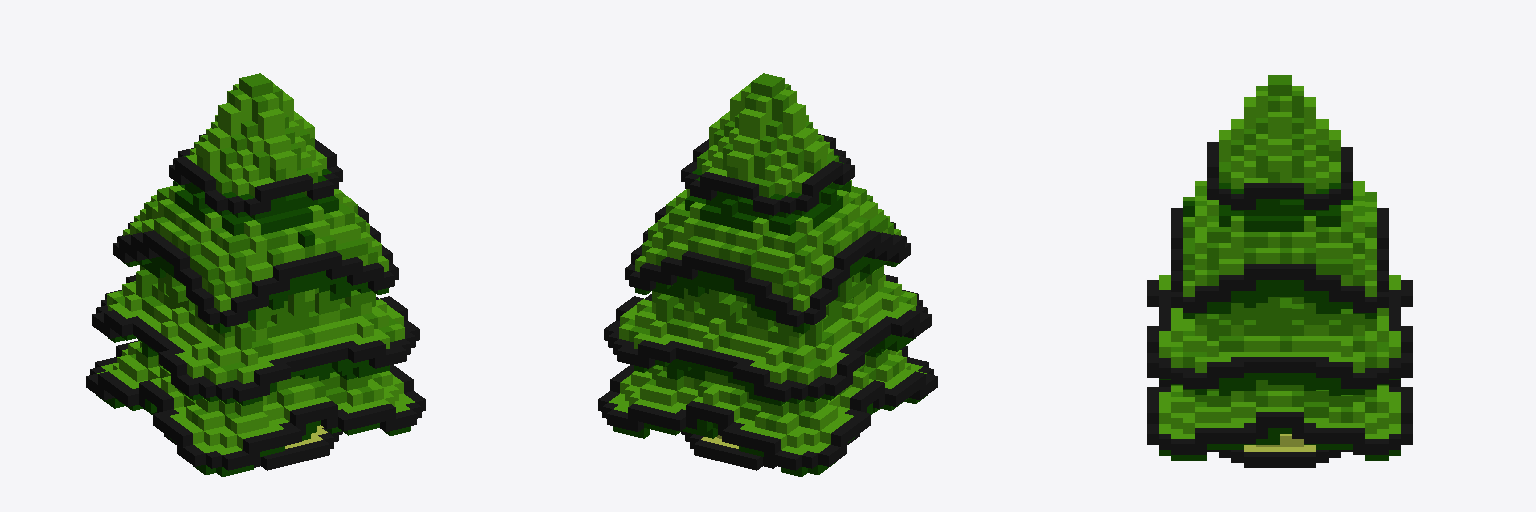
3 renders of one model, left to right at view 1: azimuth 30°, elevation 25°; view 2: azimuth 150°, elevation 25°; view 3: azimuth 270°, elevation 25°, orthographic.
Parts seen in each view (by area): view 1: Model; view 2: Model; view 3: Model.
Part boxes in pixels (x1,y1,x2,y2): Model: (86, 73, 425, 476); Model: (598, 73, 937, 476); Model: (1147, 75, 1412, 467).
Size of the model in its own units: 22 by 32 by 22.
Materials: 1 (1 with a texture image).